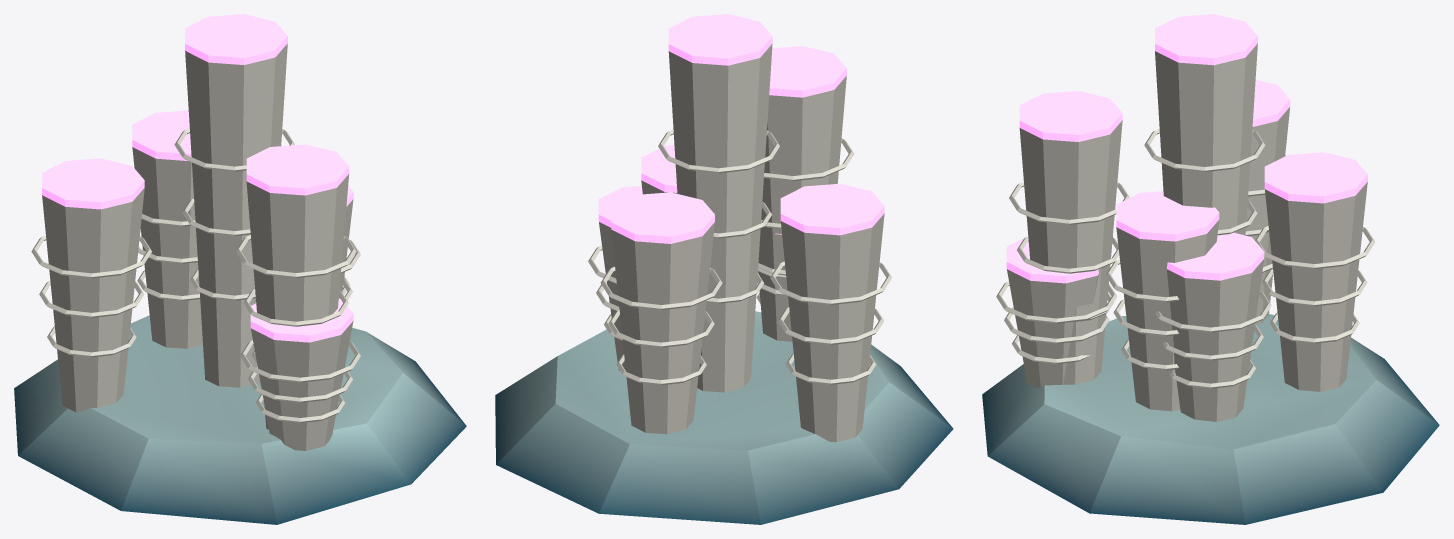
The model's file is prop_glass_sponge.glb.
The picture shows the model from 3 angles, left to right: view 1: azimuth 30°, elevation 25°; view 2: azimuth 150°, elevation 25°; view 3: azimuth 270°, elevation 25°; orthographic projection.
Visible parts, largest first — view 1: prop_glass_sponge_bone, prop_glass_sponge_stone, prop_glass_sponge_lume; view 2: prop_glass_sponge_bone, prop_glass_sponge_stone, prop_glass_sponge_lume; view 3: prop_glass_sponge_bone, prop_glass_sponge_stone, prop_glass_sponge_lume.
Boxes of the visible parts, x1,y1,x2,y2 form: prop_glass_sponge_bone: (31, 43, 360, 450); prop_glass_sponge_stone: (14, 315, 466, 524); prop_glass_sponge_lume: (42, 14, 353, 342); prop_glass_sponge_bone: (588, 44, 891, 442); prop_glass_sponge_stone: (495, 311, 953, 524); prop_glass_sponge_lume: (598, 14, 884, 243); prop_glass_sponge_bone: (996, 43, 1375, 421); prop_glass_sponge_stone: (982, 314, 1439, 524); prop_glass_sponge_lume: (1006, 14, 1367, 283).
Size of the model in its own units: 2.95 by 2.77 by 2.93.
